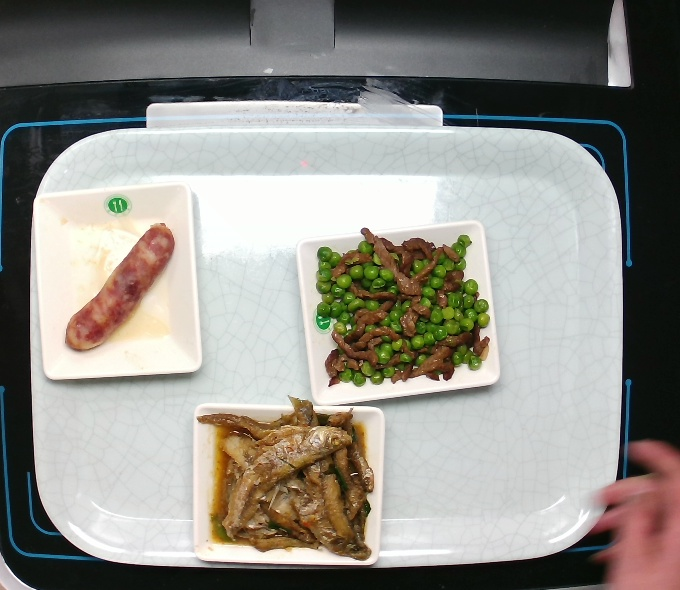wcq-CanDouNiuRou: (314, 229, 493, 387)
wcq-XiangChang: (63, 221, 176, 352)
wcq-XiaoJiYu: (195, 397, 375, 560)
